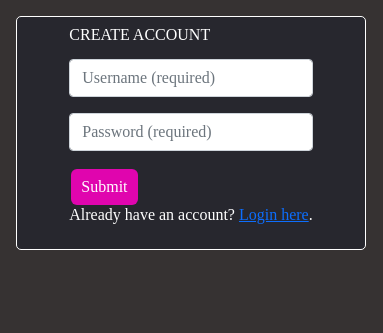
Test: Create Account page tests › Form submission: failed account creation - already exists
Expected: the password field with test id "password-input-field" is shown, [69, 113, 313, 151]
Type "12345678" into the field with test id "username-input-field" at (191, 78), box [69, 59, 313, 97]
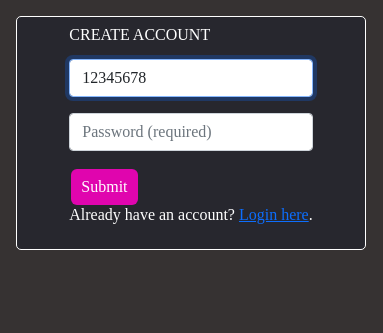
Type "12345678" into the password field with test id "password-input-field" at (191, 132), box [69, 113, 313, 151]
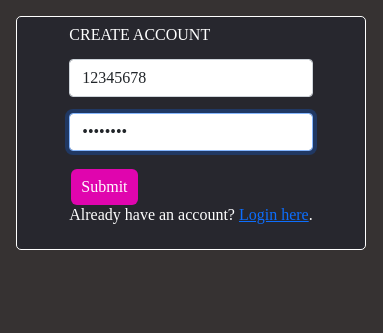
Click the button with test id "createaccount-form-submitButton" at (104, 187), box [71, 169, 138, 205]
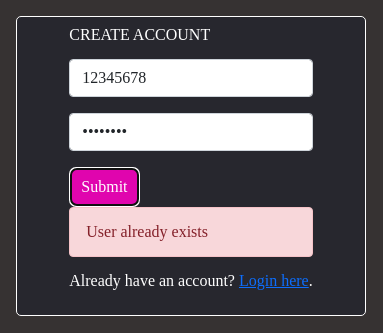
Expected: the message "User already exists" is shown, [69, 207, 313, 257]
